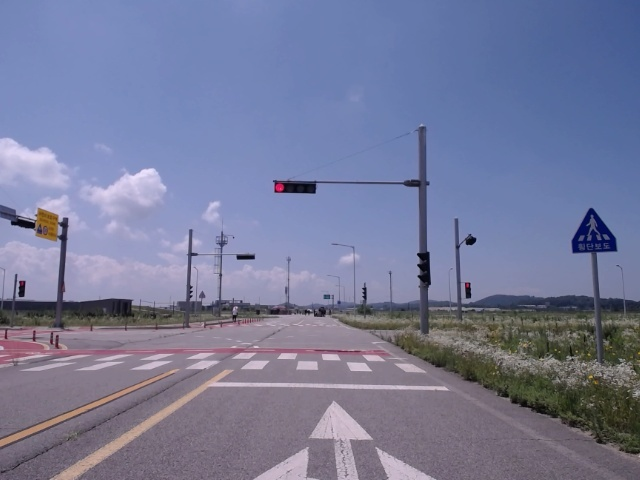red_4: (274, 182, 316, 194)
